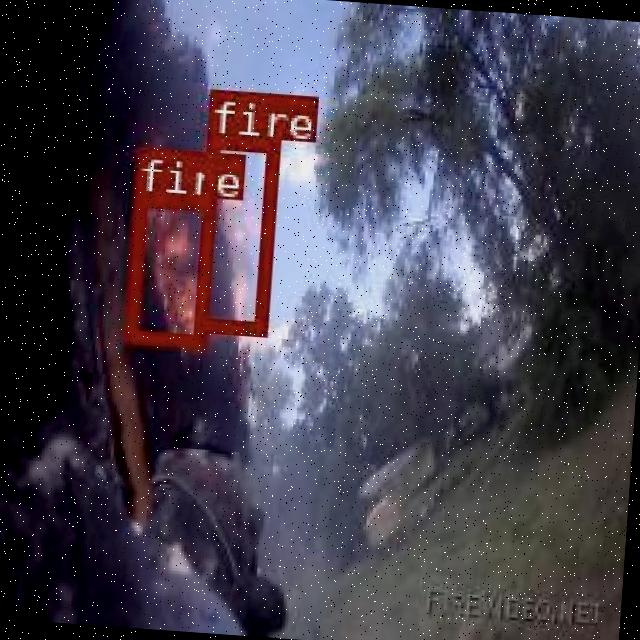fire: (193, 132, 277, 330), (124, 191, 212, 345)
